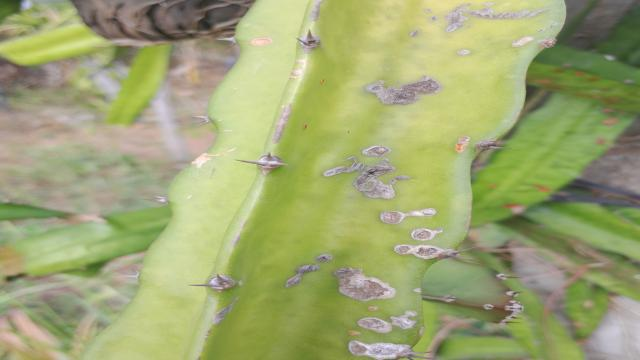stemcanker: (367, 204, 443, 228), (384, 226, 445, 245), (235, 35, 286, 54), (483, 29, 527, 49), (449, 130, 476, 156)
